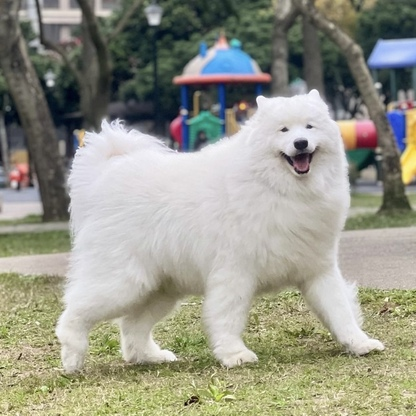samoyed: (51, 83, 389, 373)
